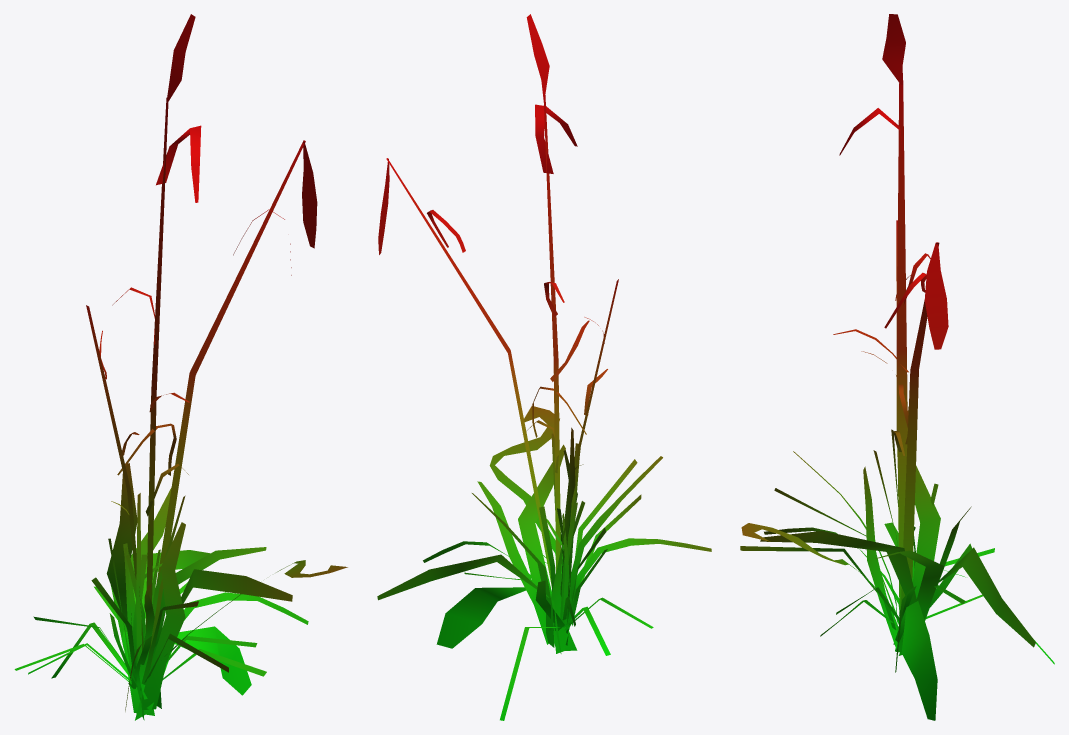
Rendered from Wheat Grass_LOD2_Var4_tdcrdbur.fbx.
3 views of the same model, side by side, from view 1: azimuth 30°, elevation 25°; view 2: azimuth 150°, elevation 25°; view 3: azimuth 270°, elevation 25° (orthographic). The views are drawn at different scales.
Parts seen in each view (by area): view 1: _ec20_Var4_LOD2; view 2: _ec20_Var4_LOD2; view 3: _ec20_Var4_LOD2.
Part boxes in pixels (x1,y1,x2,y2): _ec20_Var4_LOD2: [14, 14, 347, 720]; _ec20_Var4_LOD2: [377, 14, 711, 720]; _ec20_Var4_LOD2: [740, 14, 1054, 720].
Size of the model in its own units: 49.18 by 111 by 46.84.
